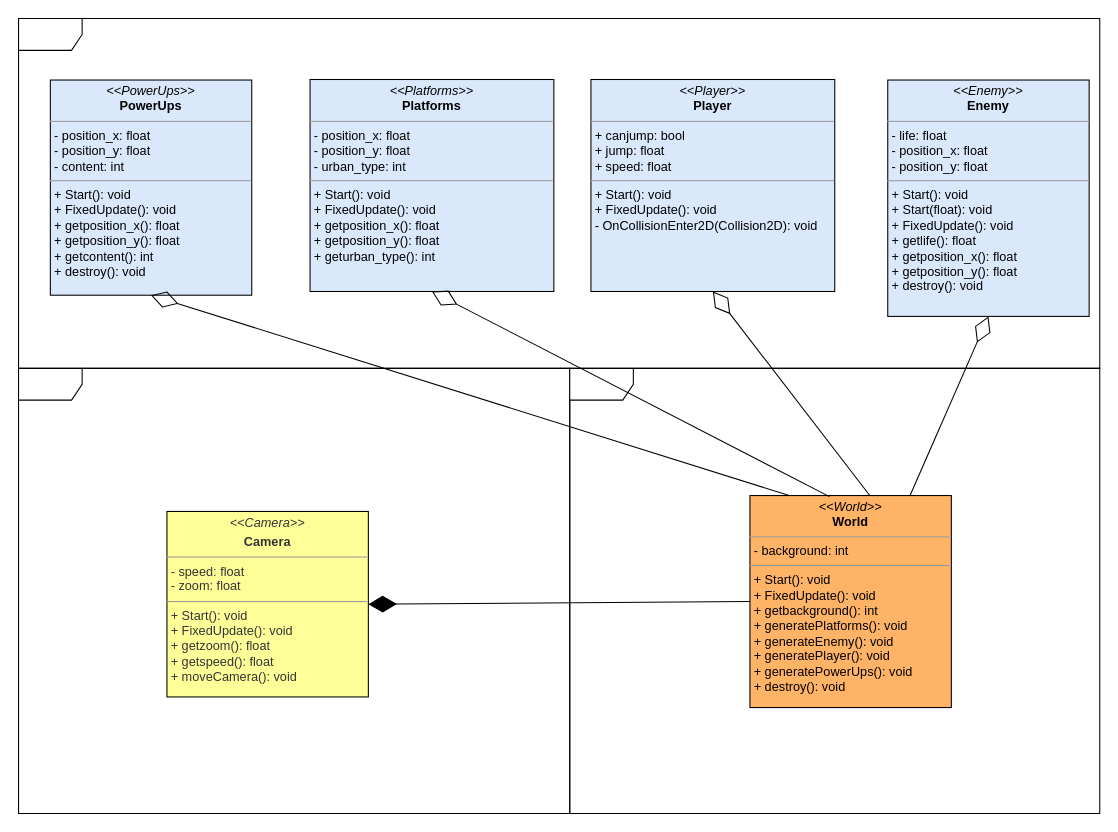
Image size: 1118x832. Some labels were removed from this diagram. Here are the shapes that lost their labels. From the top down, the box of each, then its label:
(17, 17, 1100, 368): Model
(17, 367, 570, 814): View
(569, 367, 1100, 814): Controller
